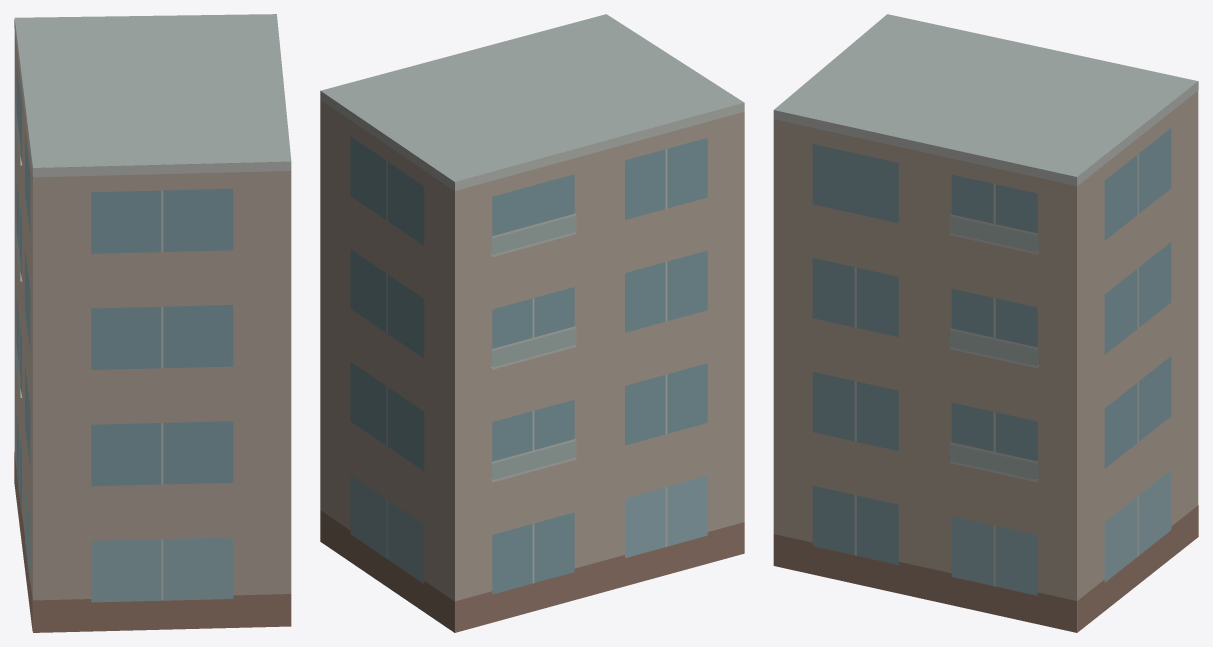
File: survey-upis-32799400.glb
3 views of the same model, side by side, from view 1: azimuth 30°, elevation 25°; view 2: azimuth 150°, elevation 25°; view 3: azimuth 270°, elevation 25° (orthographic). The views are drawn at different scales.
Parts seen in each view (by area): view 1: survey-upis-32799400.tmp; view 2: survey-upis-32799400.tmp; view 3: survey-upis-32799400.tmp.
Boxes of the visible parts, x1,y1,x2,y2 form: survey-upis-32799400.tmp: (14,14,291,632); survey-upis-32799400.tmp: (320,14,744,632); survey-upis-32799400.tmp: (773,14,1198,632).
Size of the model in its own units: 9.33 by 12.15 by 10.27.
